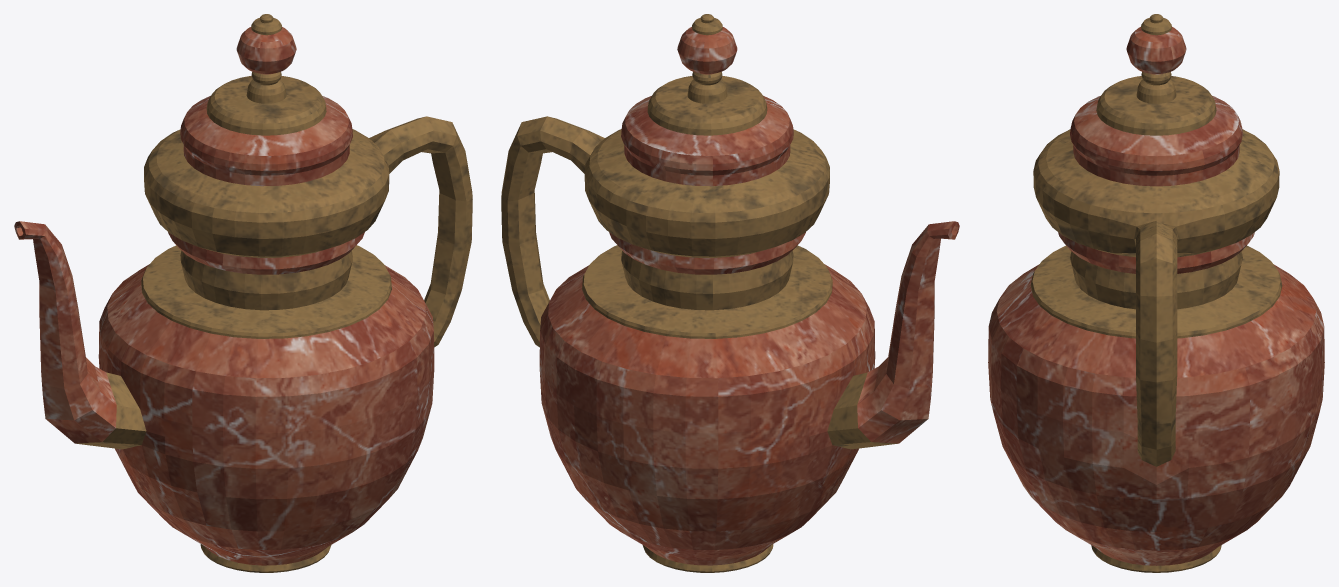
Rendered from Teapot_1_JBischer.fbx.
3 views of the same model, side by side, from view 1: azimuth 30°, elevation 25°; view 2: azimuth 150°, elevation 25°; view 3: azimuth 270°, elevation 25° (orthographic).
Parts seen in each view (by area): view 1: Cylinder.003; view 2: Cylinder.003; view 3: Cylinder.003.
Part boxes in pixels (bbox=[...]): Cylinder.003: bbox=[14, 14, 472, 572]; Cylinder.003: bbox=[501, 14, 959, 572]; Cylinder.003: bbox=[988, 14, 1324, 572].
Size of the model in its own units: 763 by 852 by 490.
